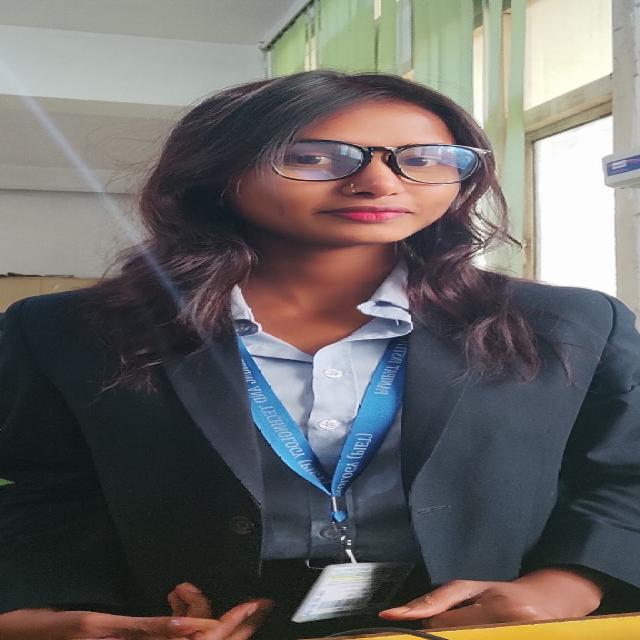uniform: (1, 256, 638, 638)
